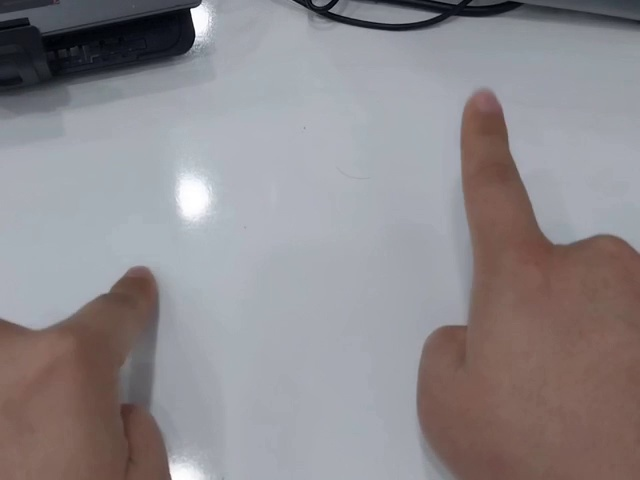fingers: (108, 263, 158, 324), (459, 87, 510, 141)
